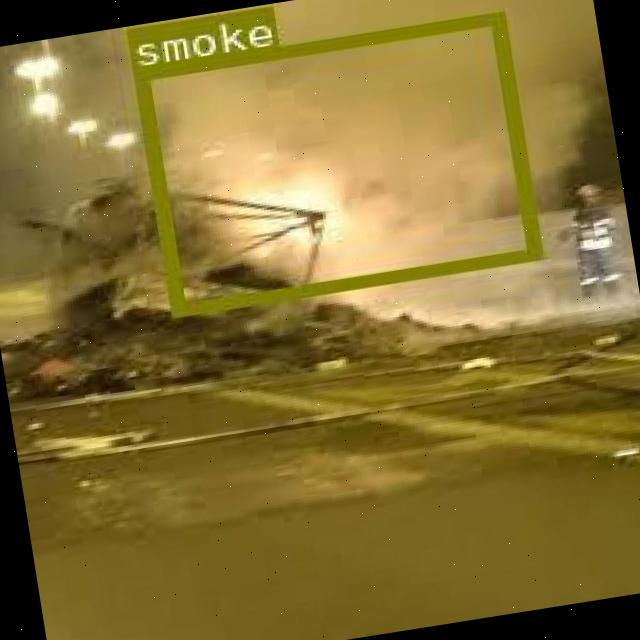smoke: (130, 11, 539, 316)
